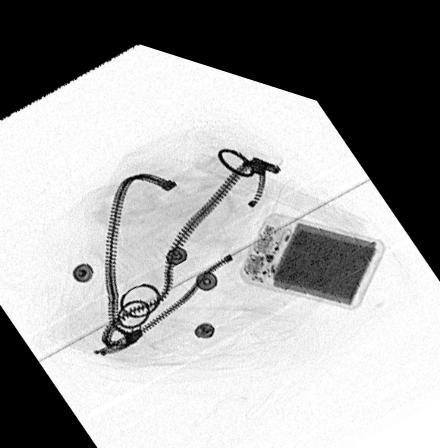Powerbank: (236, 193, 387, 289)
